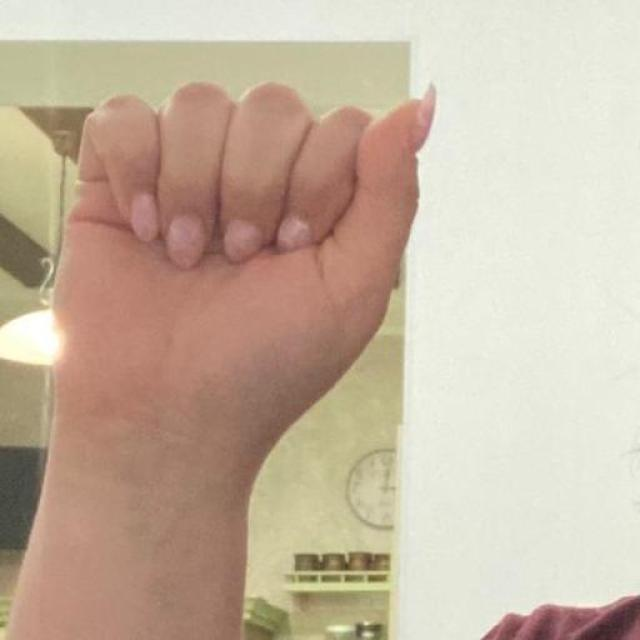hand: (48, 76, 438, 472)
